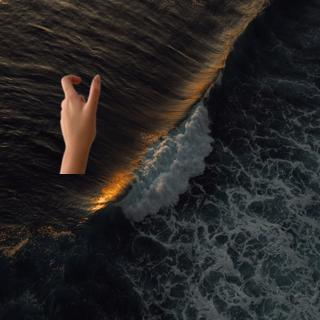Irritated: (56, 71, 108, 174)
